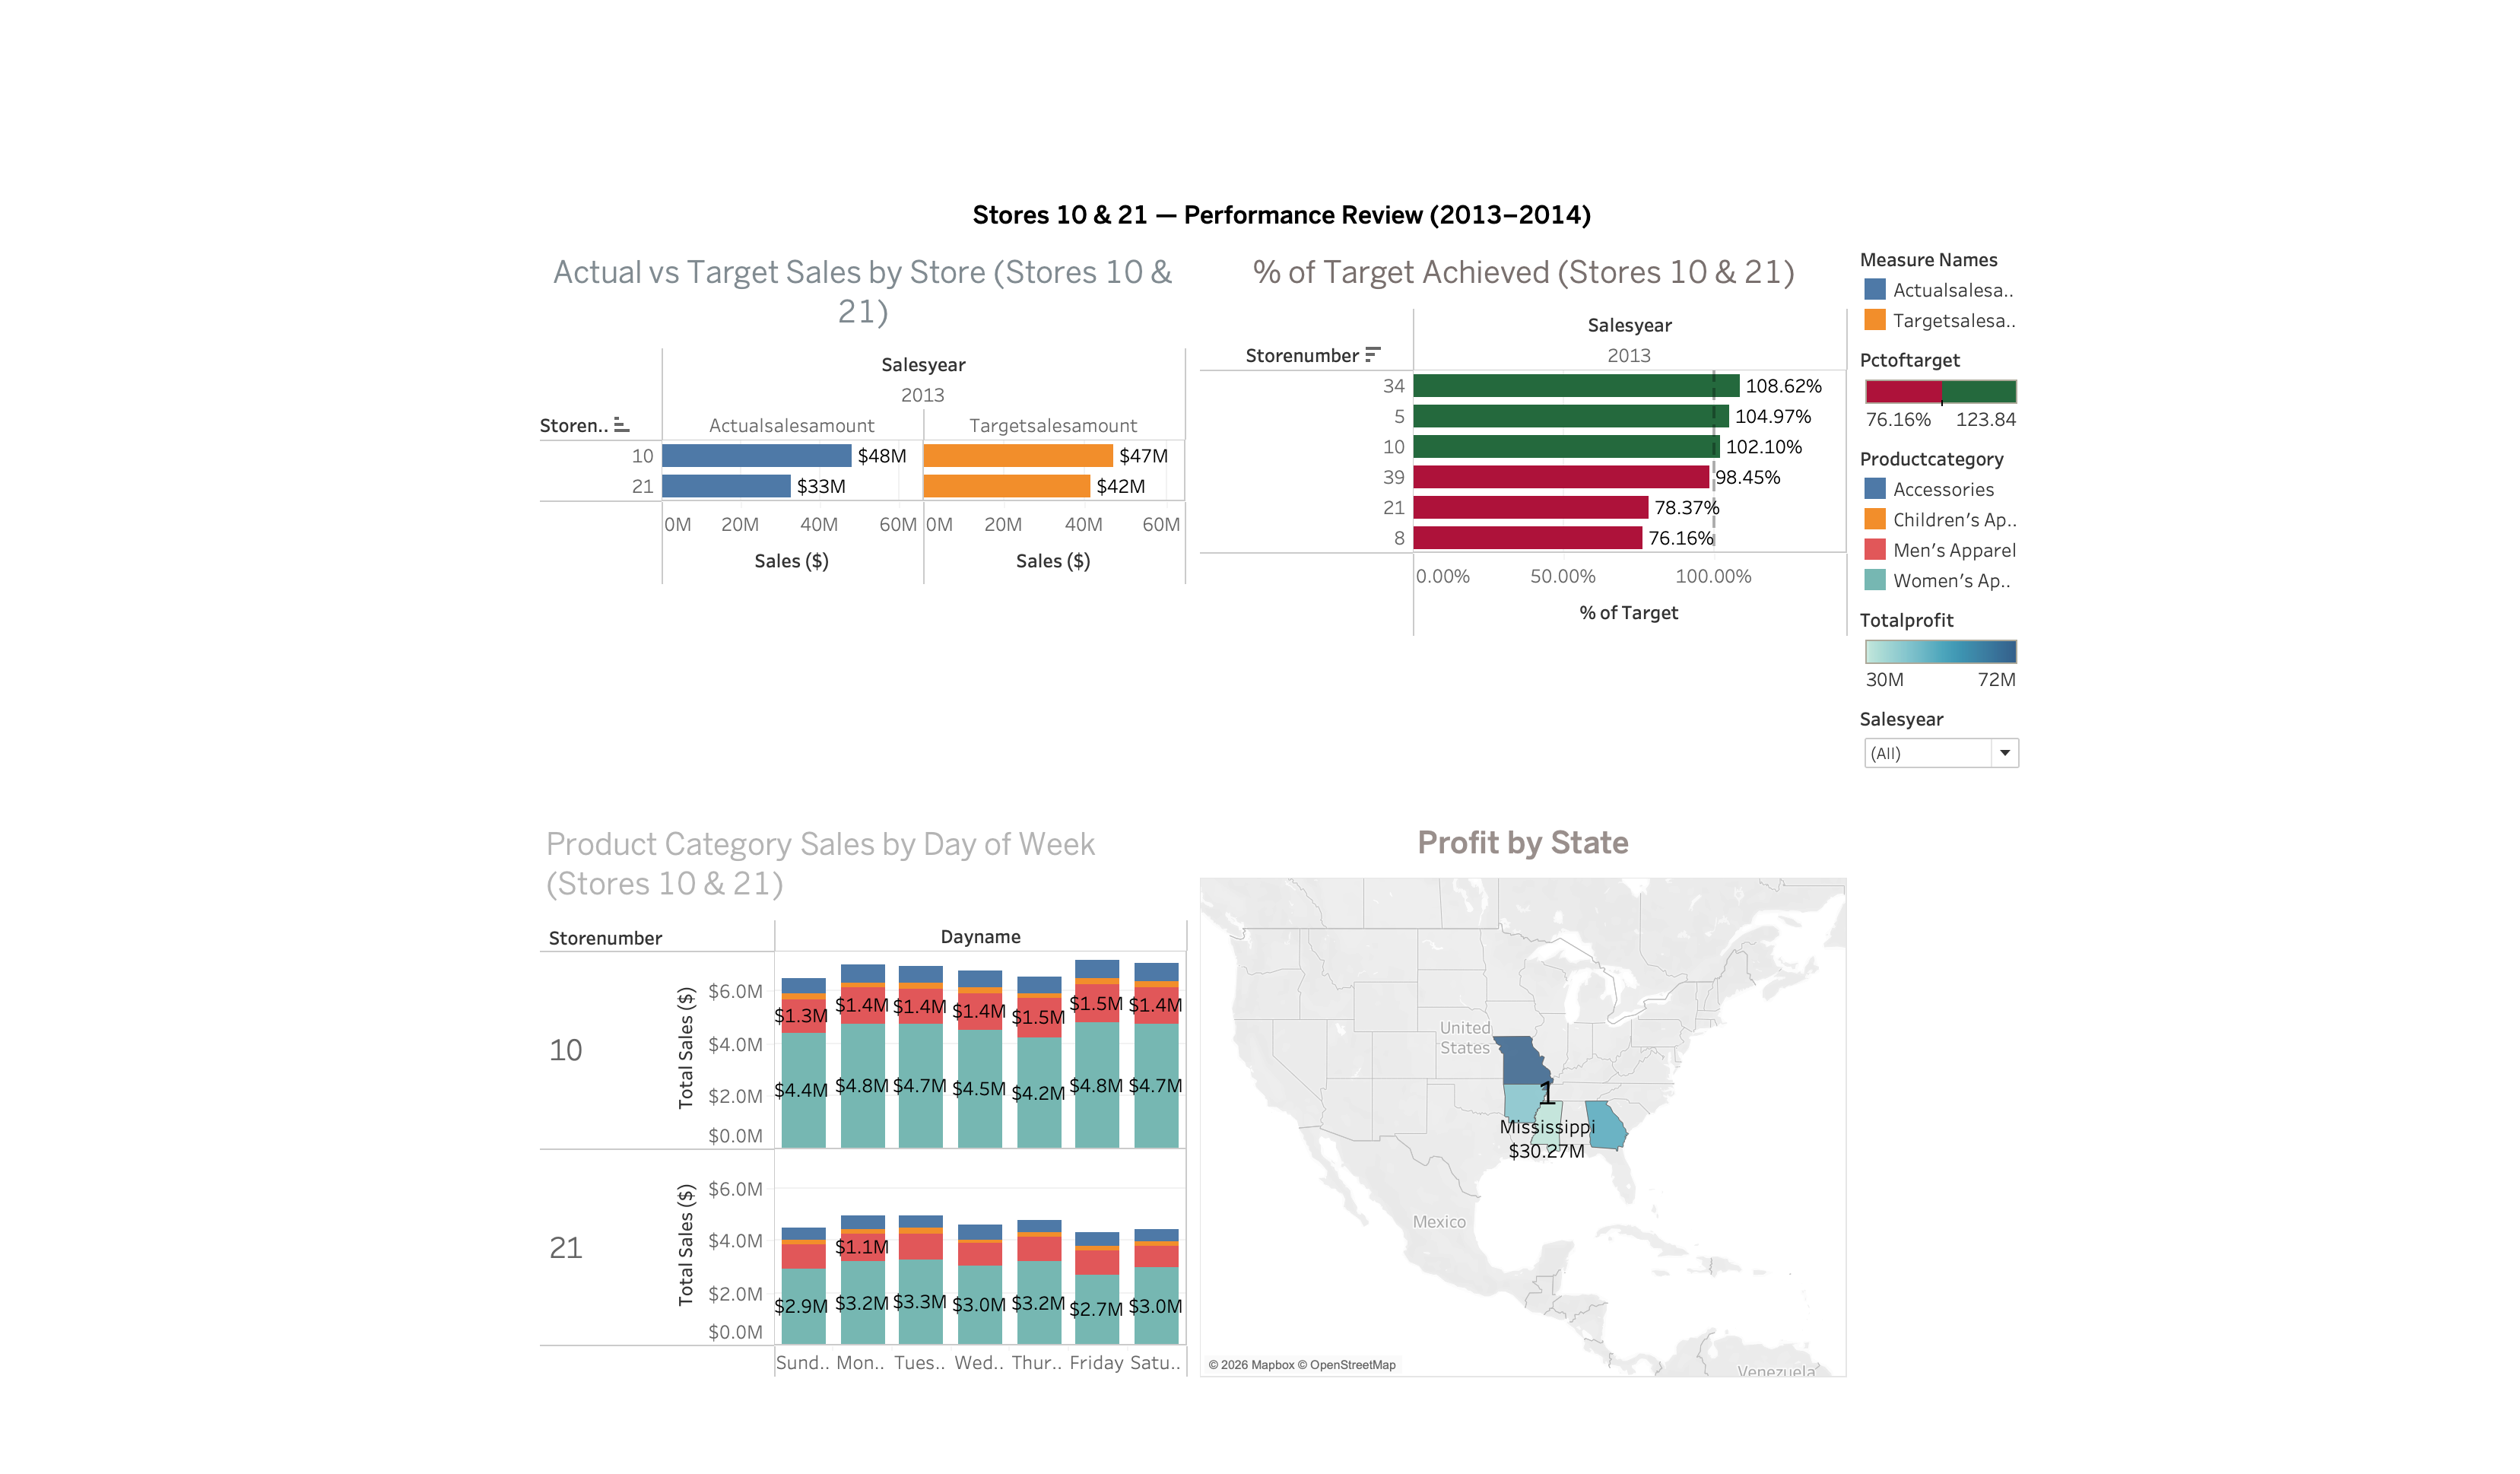

The page's visual inventory and layout, read from the dashboard file:
{"tool":"tableau","page":{"name":"Dashboard 1","canvas":[1000,800],"ordinal":0},"visuals":[{"type":"text","box":[8,8,984,32]},{"type":"worksheet","title":"Sheet 1","mark":"Bar","rows":["STORENUMBER"],"cols":["SALESYEAR"],"box":[8,40,434,376]},{"type":"worksheet","title":"Sheet 2","mark":"Bar","rows":["STORENUMBER"],"cols":["SALESYEAR","PCTOFTARGET"],"box":[442,40,434,376]},{"type":"legend","title":"Sheet 1","param":"[federated.04o04yd0mziixb1ao9igr0ope27s].[:Measure Names]","box":[876,40,116,66]},{"type":"legend","title":"Sheet 2","param":"[federated.04o04yd0mziixb1ao9igr0ope27s].[sum:PCTOFTARGET:qk]","box":[876,106,116,65]},{"type":"legend","title":"Sheet 3","param":"[federated.07rvsnw0isbgv81g2c4hb0djxrq9].[none:PRODUCTCATEGORY:nk]","box":[876,171,116,106]},{"type":"legend","title":"Sheet 4","param":"[federated.0s9879e0p5e6qx142j2hv0o4g8tw].[sum:TOTALPROFIT:qk]","box":[876,277,116,65]},{"type":"filter","title":"Sheet 1","param":"[federated.04o04yd0mziixb1ao9igr0ope27s].[none:SALESYEAR:ok]","box":[876,342,116,52]},{"type":"worksheet","title":"Sheet 3","mark":"Bar","rows":["STORENUMBER","TOTALSALESAMOUNT"],"cols":["DAYNAME"],"box":[8,416,434,376]},{"type":"worksheet","title":"Sheet 4","mark":"Multipolygon","box":[442,416,434,376]}]}

Visuals, with their boxes on the page's 1000x800 design canvas (x1, y1, x2, y2). These are canvas units, not pixel positions in the 2520x1474 screenshot, which may show the page scaled, cropped or inside an application window:
text: left=8, top=8, right=992, bottom=40
"Sheet 1" worksheet (Bar marks): left=8, top=40, right=442, bottom=416
"Sheet 2" worksheet (Bar marks): left=442, top=40, right=876, bottom=416
"Sheet 1" legend: left=876, top=40, right=992, bottom=106
"Sheet 2" legend: left=876, top=106, right=992, bottom=171
"Sheet 3" legend: left=876, top=171, right=992, bottom=277
"Sheet 4" legend: left=876, top=277, right=992, bottom=342
"Sheet 1" filter: left=876, top=342, right=992, bottom=394
"Sheet 3" worksheet (Bar marks): left=8, top=416, right=442, bottom=792
"Sheet 4" worksheet (Multipolygon marks): left=442, top=416, right=876, bottom=792
